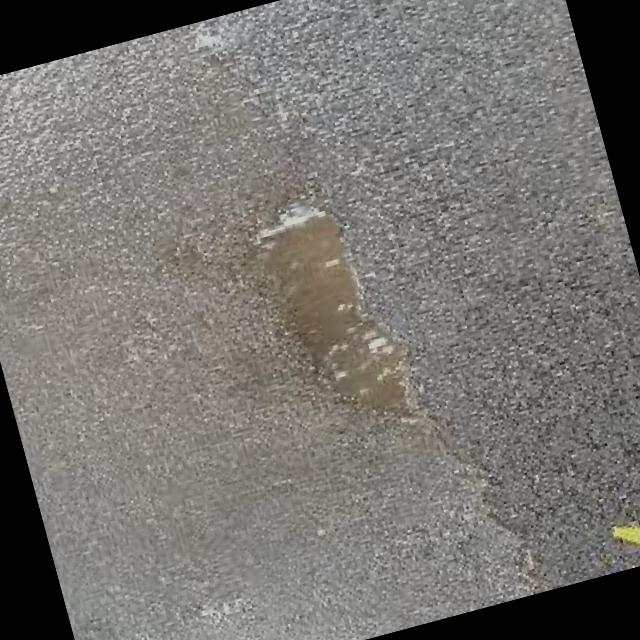stagnation: (209, 165, 449, 472)
